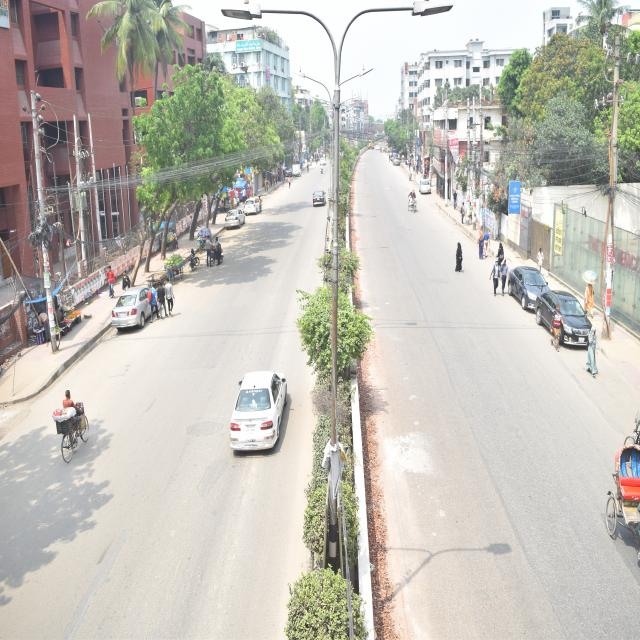car: (215, 327, 310, 464), (482, 240, 568, 323), (535, 288, 606, 366), (102, 284, 178, 350), (221, 199, 252, 256), (244, 177, 266, 244), (299, 183, 333, 222), (415, 170, 441, 200), (319, 148, 329, 176)
motorbike: (202, 230, 254, 294), (183, 242, 207, 288), (316, 159, 326, 179)
pickup-van: (282, 152, 304, 185)
